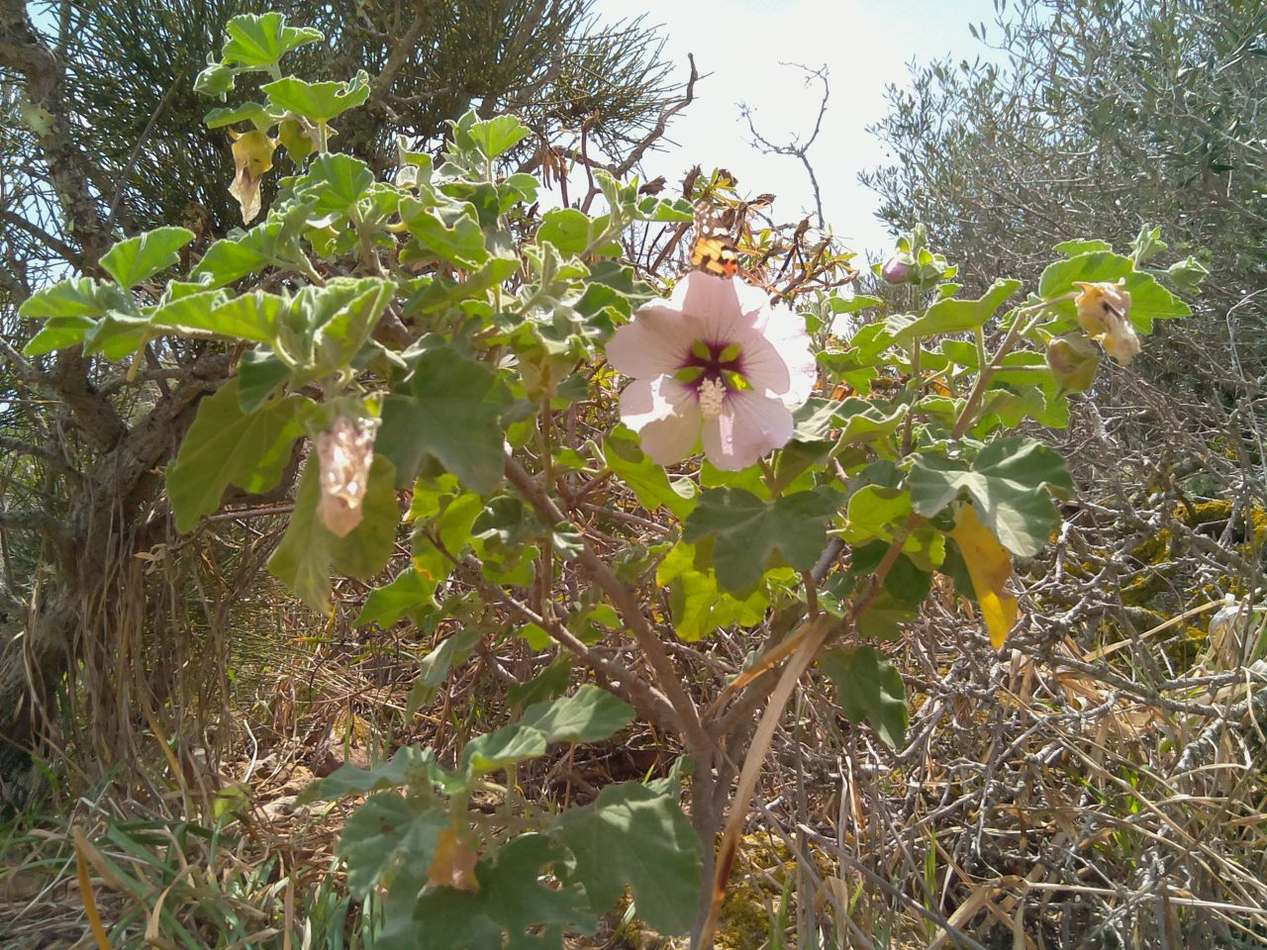Vanessa cardui: (646, 173, 753, 286)
